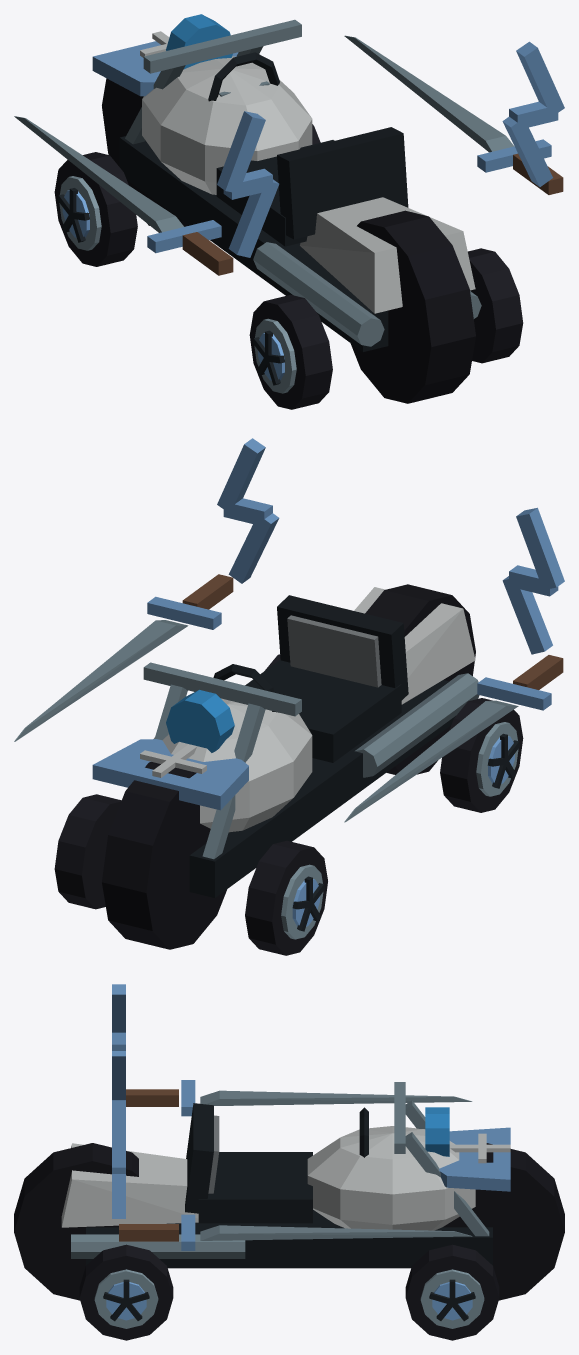
File: kart.glb
3 renders of one model, top to bottom at view 1: azimuth 30°, elevation 25°; view 2: azimuth 150°, elevation 25°; view 3: azimuth 270°, elevation 25°, orthographic. The views are drawn at different scales.
Visible parts, largest first — view 1: identity-motorbike-motorbike-tank-and-fork, identity-motorbike-driver-cockpit, identity-motorbike-motif-swords, identity-motorbike-motif-electric, wheel-rear-left, wheel-front-left, wheel-rear-right, identity-motorbike-motif-shield; view 2: identity-motorbike-motorbike-tank-and-fork, identity-motorbike-driver-cockpit, identity-motorbike-motif-swords, identity-motorbike-motif-electric, wheel-front-left, identity-motorbike-motif-shield, wheel-rear-left, wheel-front-right; view 3: identity-motorbike-motorbike-tank-and-fork, identity-motorbike-driver-cockpit, identity-motorbike-motif-swords, wheel-front-right, wheel-rear-right, identity-motorbike-motif-shield, identity-motorbike-motif-electric.
Boxes of the visible parts, left/top/right/bottom form: identity-motorbike-motorbike-tank-and-fork: left=102, top=14, right=481, bottom=403; identity-motorbike-driver-cockpit: left=208, top=52, right=408, bottom=246; identity-motorbike-motif-swords: left=14, top=35, right=563, bottom=275; identity-motorbike-motif-electric: left=217, top=41, right=564, bottom=257; wheel-rear-left: left=249, top=294, right=332, bottom=409; wheel-front-left: left=54, top=152, right=137, bottom=266; wheel-rear-right: left=468, top=248, right=523, bottom=363; identity-motorbike-motif-shield: left=92, top=31, right=238, bottom=96; identity-motorbike-motorbike-tank-and-fork: left=102, top=584, right=479, bottom=949; identity-motorbike-driver-cockpit: left=213, top=595, right=408, bottom=762; identity-motorbike-motif-swords: left=14, top=574, right=563, bottom=822; identity-motorbike-motif-electric: left=217, top=438, right=564, bottom=654; wheel-front-left: left=245, top=840, right=327, bottom=955; identity-motorbike-motif-shield: left=92, top=739, right=248, bottom=810; wheel-rear-left: left=440, top=698, right=523, bottom=812; wheel-front-right: left=54, top=794, right=121, bottom=909; identity-motorbike-motorbike-tank-and-fork: left=14, top=1082, right=564, bottom=1300; identity-motorbike-driver-cockpit: left=185, top=1103, right=368, bottom=1223; identity-motorbike-motif-swords: left=119, top=1080, right=472, bottom=1250; wheel-front-right: left=405, top=1244, right=499, bottom=1340; wheel-rear-right: left=79, top=1244, right=173, bottom=1340; identity-motorbike-motif-shield: left=439, top=1127, right=510, bottom=1191; identity-motorbike-motif-electric: left=112, top=984, right=125, bottom=1218.
Size of the model in its own units: 2.04 by 1.49 by 2.94.
